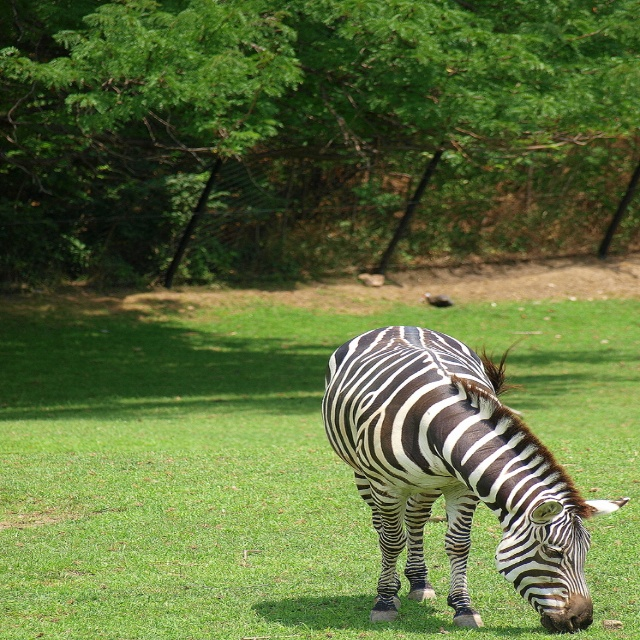Zebra: (319, 325, 633, 635)
